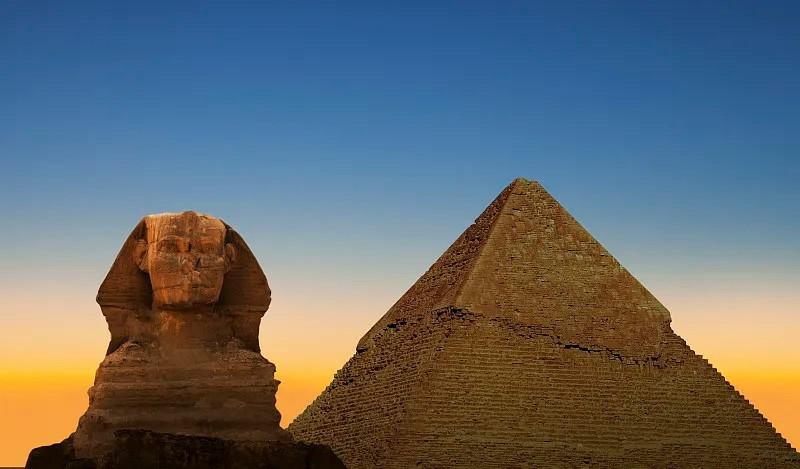Pyramid: (292, 179, 800, 469)
